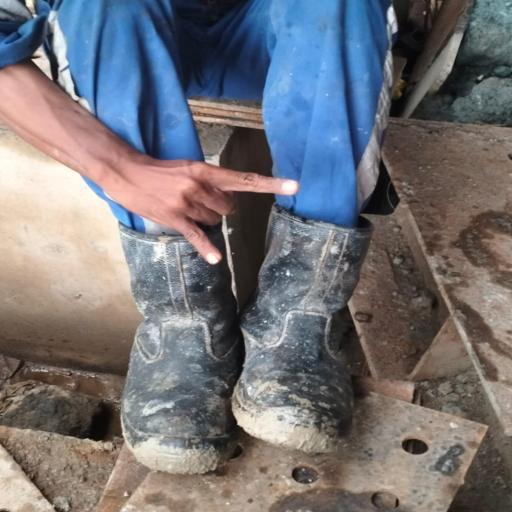safety_shoe: (108, 214, 240, 473), (240, 210, 360, 451)
